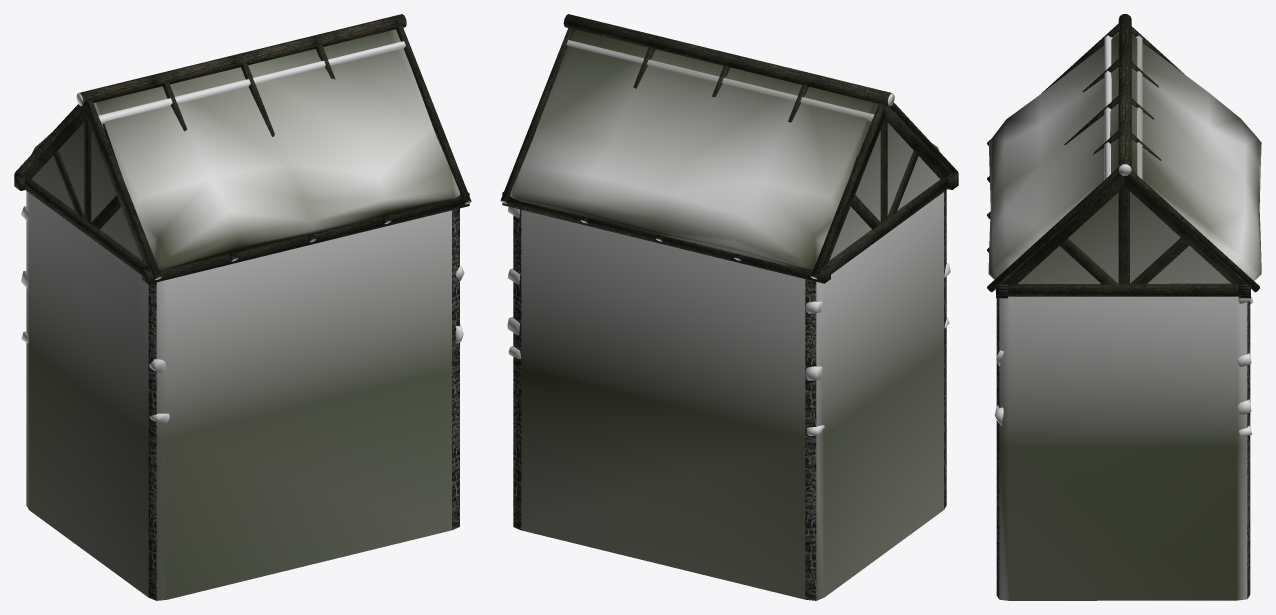
File: ex_nord_house_01.dae
The picture shows the model from 3 angles, left to right: view 1: azimuth 30°, elevation 25°; view 2: azimuth 150°, elevation 25°; view 3: azimuth 270°, elevation 25°; orthographic projection. The views are drawn at different scales.
Visible parts, largest first — view 1: nifid_15-matrix, nifid_23-matrix, nifid_1-matrix, nifid_6-matrix, nifid_11-matrix, nifid_33-matrix, nifid_27-matrix; view 2: nifid_15-matrix, nifid_23-matrix, nifid_1-matrix, nifid_6-matrix, nifid_11-matrix, nifid_31-matrix, nifid_27-matrix; view 3: nifid_15-matrix, nifid_23-matrix, nifid_1-matrix, nifid_11-matrix, nifid_6-matrix, nifid_33-matrix, nifid_31-matrix, nifid_27-matrix.
Part boxes in pixels (x1,y1,x2,y2): nifid_15-matrix: [29, 122, 451, 599]; nifid_23-matrix: [31, 29, 460, 268]; nifid_1-matrix: [14, 14, 471, 284]; nifid_6-matrix: [148, 208, 459, 600]; nifid_11-matrix: [26, 191, 167, 600]; nifid_33-matrix: [98, 41, 405, 123]; nifid_27-matrix: [21, 206, 464, 422]; nifid_15-matrix: [521, 122, 943, 599]; nifid_23-matrix: [510, 29, 939, 269]; nifid_1-matrix: [501, 14, 958, 283]; nifid_6-matrix: [513, 190, 946, 600]; nifid_11-matrix: [816, 282, 824, 600]; nifid_31-matrix: [566, 40, 874, 121]; nifid_27-matrix: [507, 207, 950, 435]; nifid_15-matrix: [1009, 191, 1236, 600]; nifid_23-matrix: [988, 32, 1261, 280]; nifid_1-matrix: [987, 14, 1259, 298]; nifid_11-matrix: [999, 296, 1247, 600]; nifid_6-matrix: [996, 298, 1250, 598]; nifid_33-matrix: [1104, 35, 1112, 179]; nifid_31-matrix: [1136, 35, 1142, 179]; nifid_27-matrix: [994, 289, 1253, 437].
Bounding box in the file's own units: 538 × 416 × 734.
Materials: 3 (2 with a texture image).
